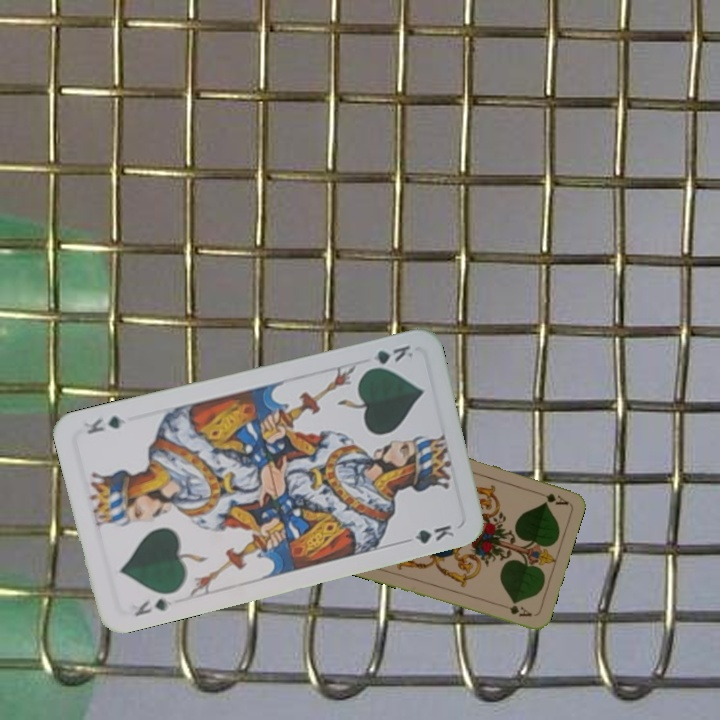GA: (531, 487, 570, 508)
GK: (361, 341, 416, 373), (130, 594, 175, 619)
